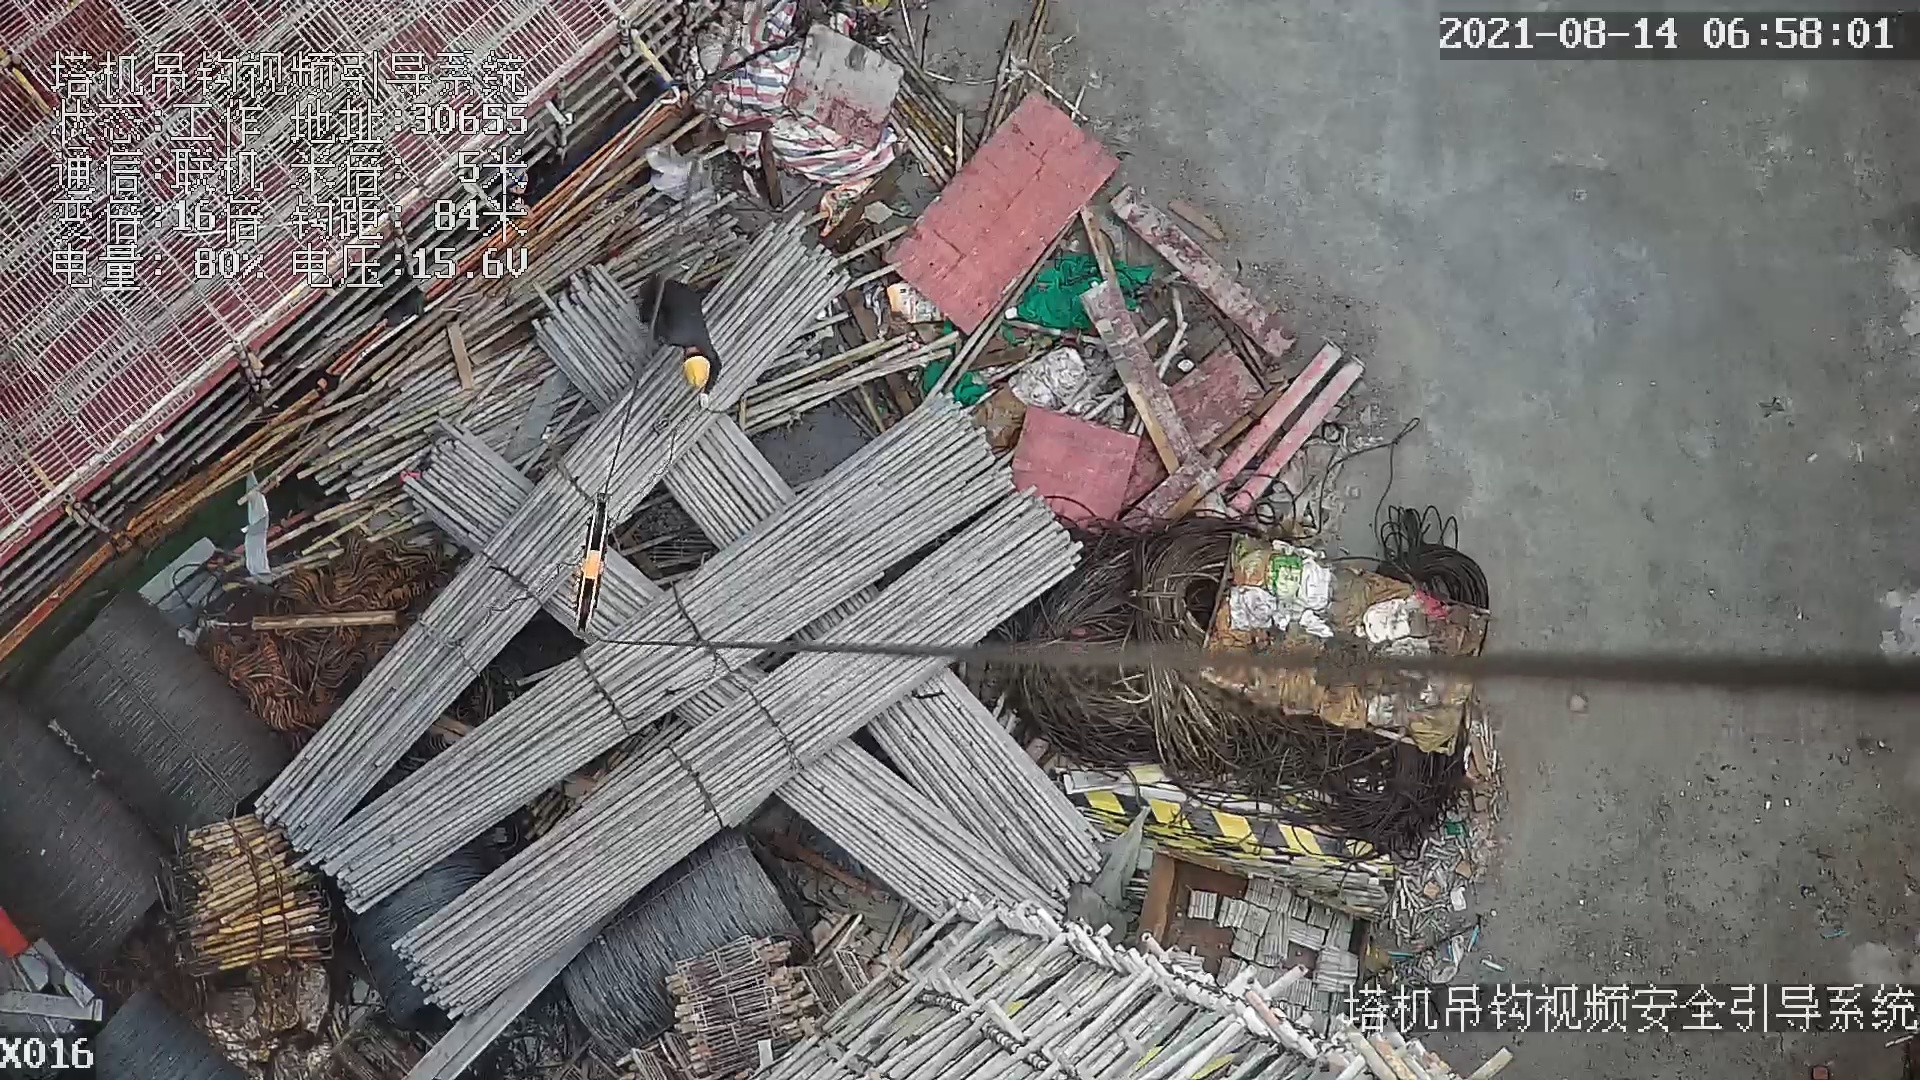helmet: (681, 356, 711, 388)
hook: (583, 494, 613, 640)
person: (637, 276, 729, 403)
rebar: (251, 211, 852, 854), (392, 487, 1078, 1023), (309, 393, 1012, 912), (866, 668, 1105, 904), (775, 741, 1071, 922)
scaffold: (166, 815, 329, 976)
